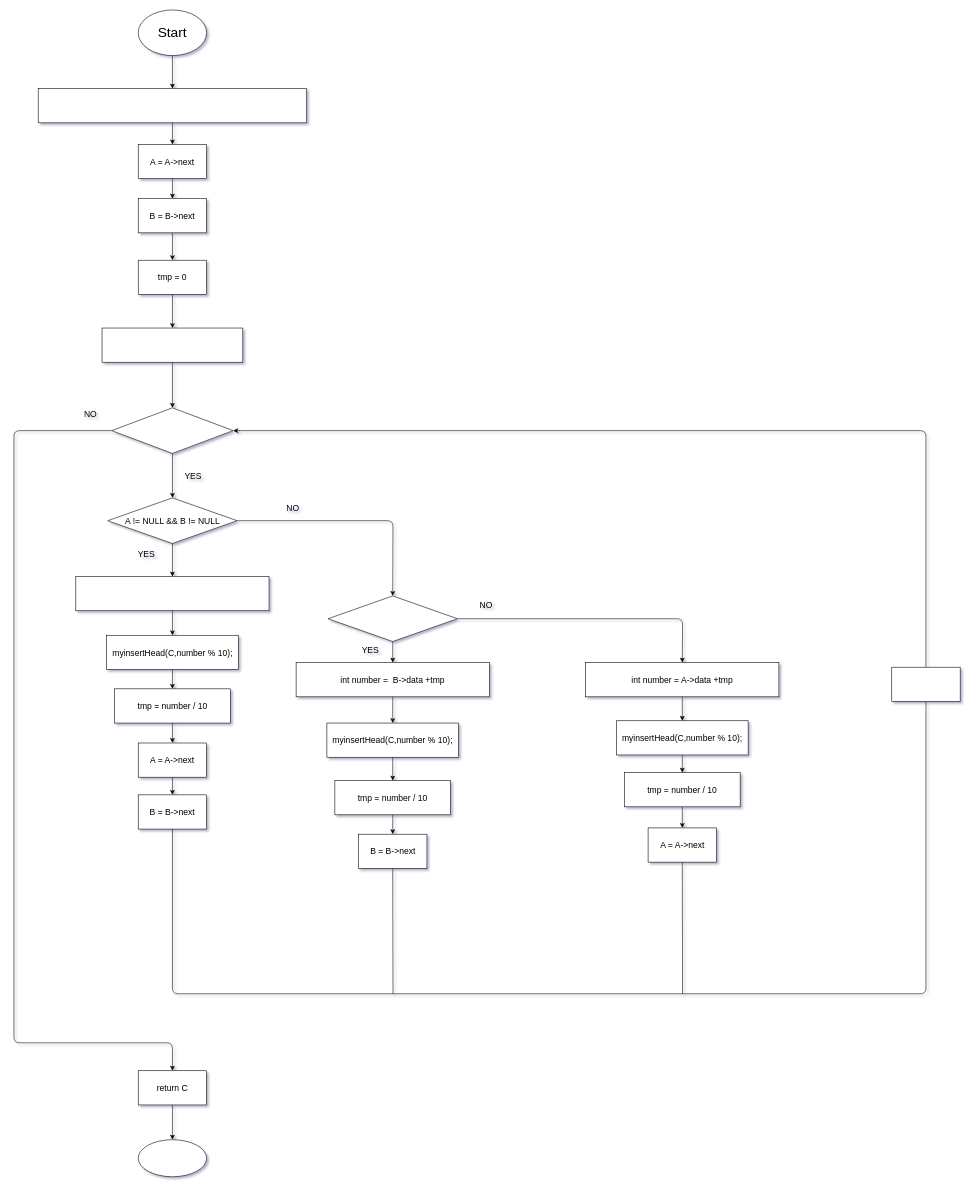
The diagram is 974 pixels wide and 1190 high, and some of its shapes have lost their labels. Here are the shapes that lost their labels. From the top down, the box of each, then its label:
(38, 88, 307, 123): int num = (A->data > B->data)? A->data : B->data;
(101, 327, 243, 362): struct node *C = mycreateList()
(111, 407, 233, 453): i < num
(75, 576, 269, 611): int number = A->data + B->data +tmp
(327, 595, 457, 642): A == NULL && B != NULL
(891, 667, 960, 701): i++
(138, 1139, 207, 1177): End
